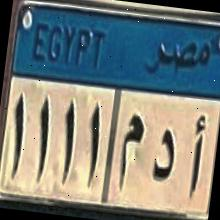1: (76, 100, 107, 190), (53, 95, 83, 186), (4, 90, 32, 176), (30, 88, 56, 180)
alif: (182, 108, 208, 196)
daal: (146, 124, 178, 188)
meem: (112, 109, 148, 192)
